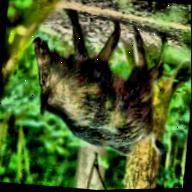boar: (18, 11, 192, 166)
